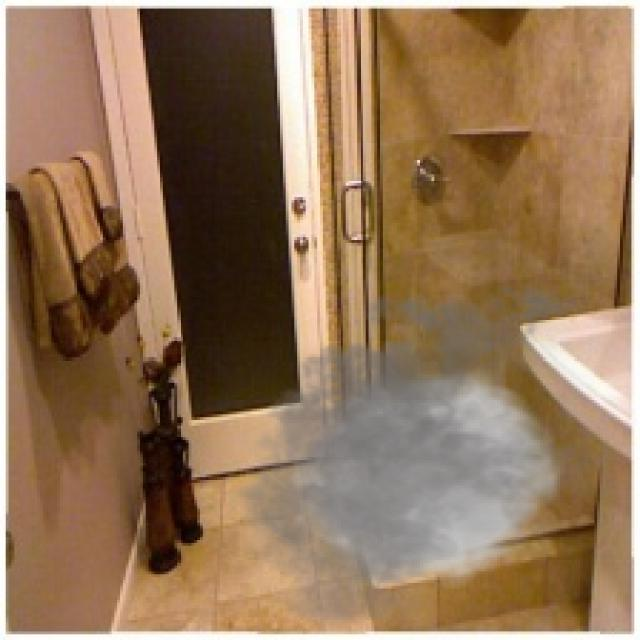Smoke: (211, 272, 640, 637)
